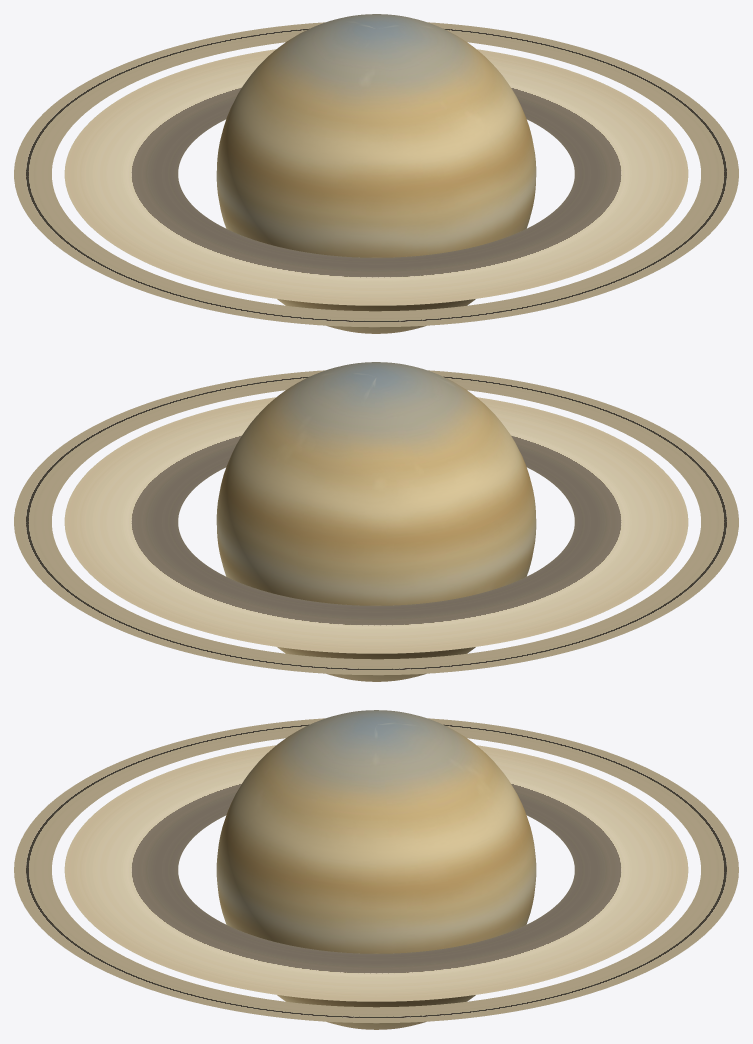
The model's file is planet_saturn.glb.
The picture shows the model from 3 angles, top to bottom: view 1: azimuth 30°, elevation 25°; view 2: azimuth 150°, elevation 25°; view 3: azimuth 270°, elevation 25°; orthographic projection.
Visible parts, largest first — view 1: planet_saturn; view 2: planet_saturn; view 3: planet_saturn.
Boxes of the visible parts, x1,y1,x2,y2 form: planet_saturn: (14,14,738,333); planet_saturn: (14,362,738,681); planet_saturn: (14,710,738,1029).
Bounding box in the file's own units: 1.36 × 0.6 × 1.36.
Materials: 2 (2 with a texture image).
